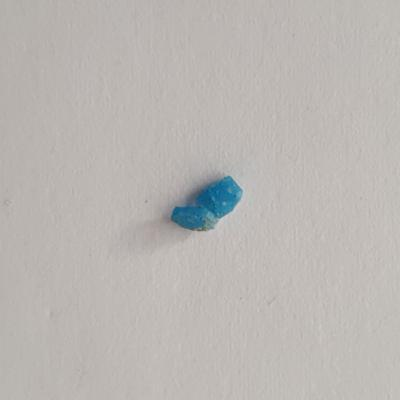plastic: (165, 165, 248, 239)
